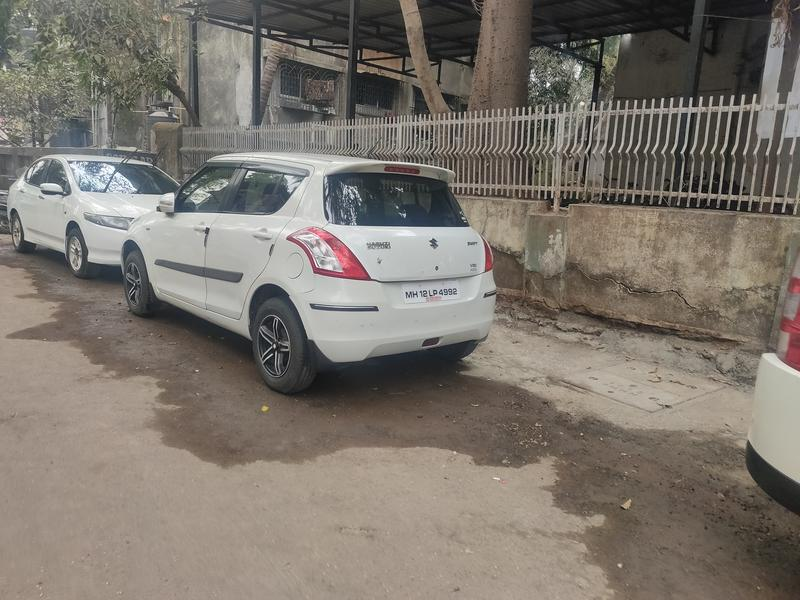license_plate: (397, 278, 477, 310)
